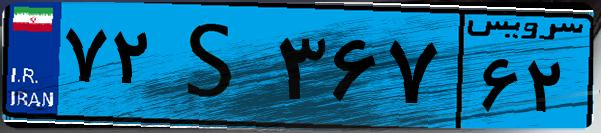2: (525, 38, 570, 115), (110, 28, 158, 98)
3: (270, 28, 330, 110)
6: (330, 28, 385, 110), (475, 38, 525, 113)
7: (385, 28, 445, 110), (57, 26, 110, 100)
S: (158, 12, 270, 120)
